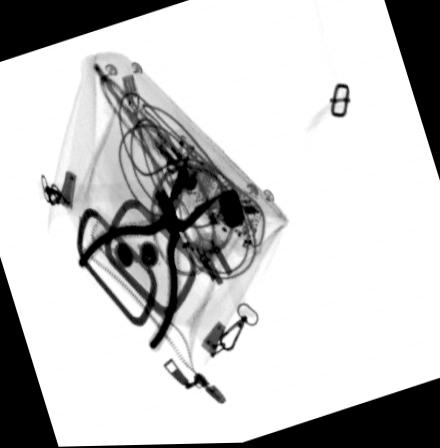Pliers: (74, 155, 223, 353)
